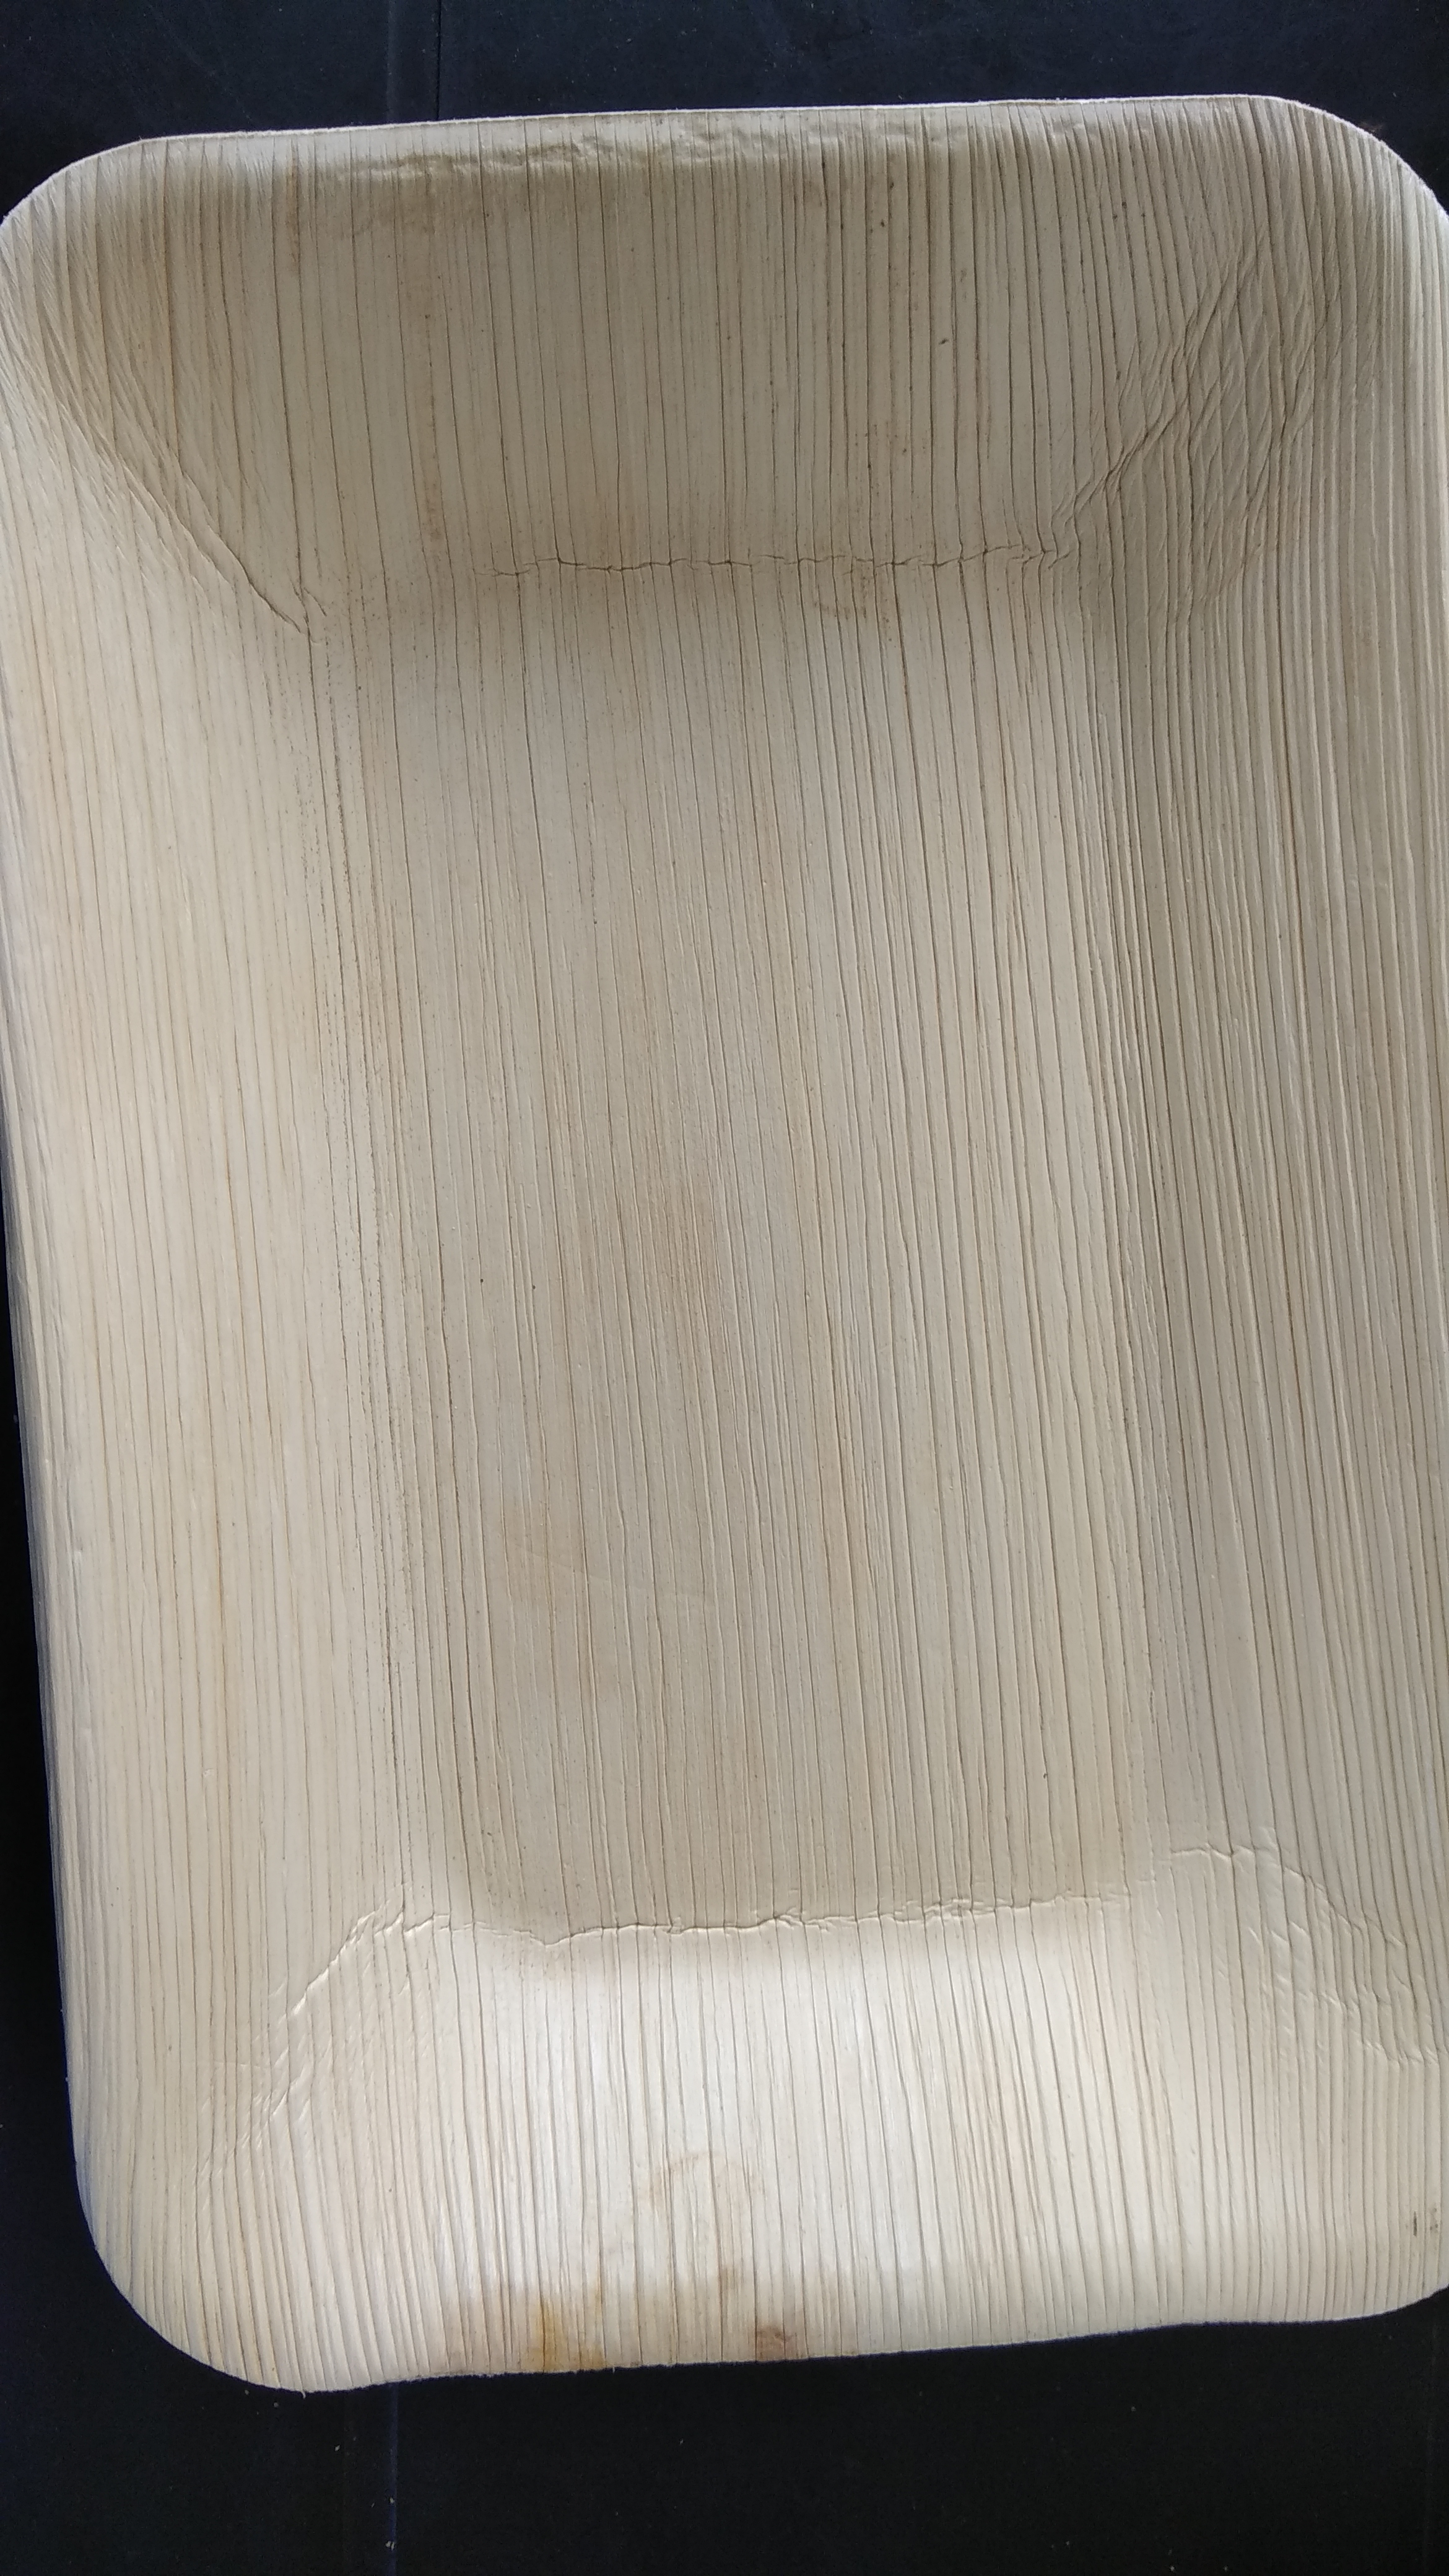areca plate: (4, 90, 1445, 2341)
